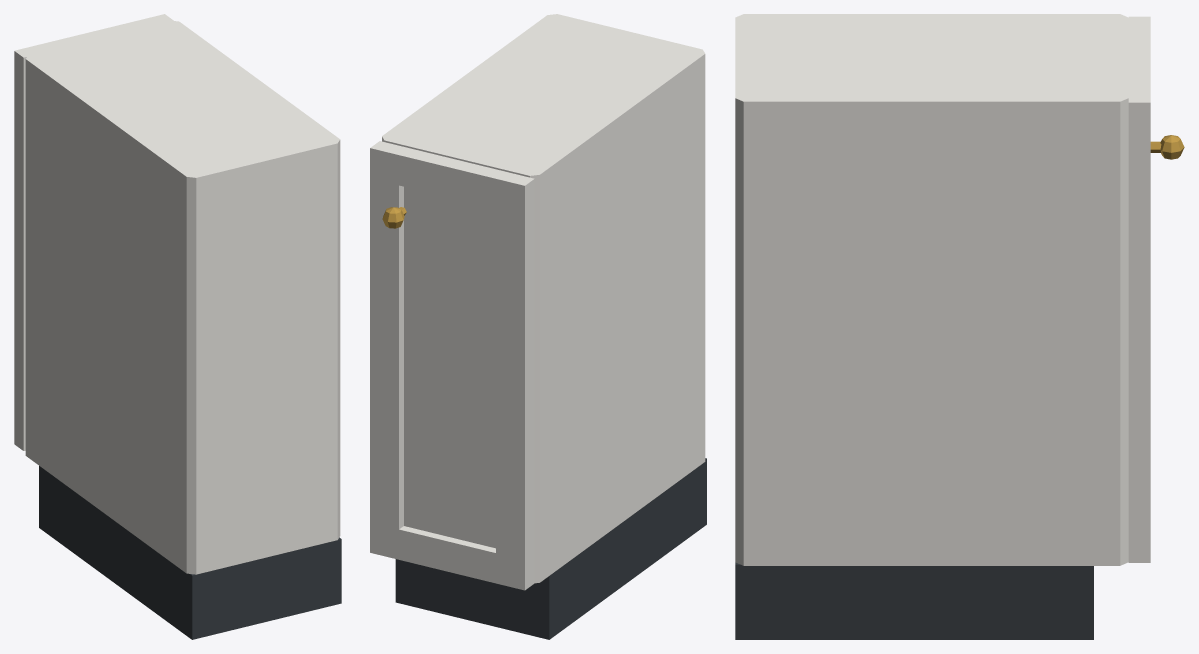
The model's file is SM_LPI_Kitchen_Base_01.fbx.
The picture shows the model from 3 angles, left to right: view 1: azimuth 30°, elevation 25°; view 2: azimuth 150°, elevation 25°; view 3: azimuth 270°, elevation 25°; orthographic projection. The views are drawn at different scales.
Visible parts, largest first — view 1: SM_LPI_Kitchen_Base_01; view 2: SM_LPI_Kitchen_Base_01; view 3: SM_LPI_Kitchen_Base_01.
Boxes of the visible parts, left/top/right/bottom form: SM_LPI_Kitchen_Base_01: left=14, top=14, right=341, bottom=639; SM_LPI_Kitchen_Base_01: left=370, top=14, right=706, bottom=639; SM_LPI_Kitchen_Base_01: left=735, top=14, right=1184, bottom=639.
Bounding box in the file's own units: 0.3 × 0.86 × 0.649.
